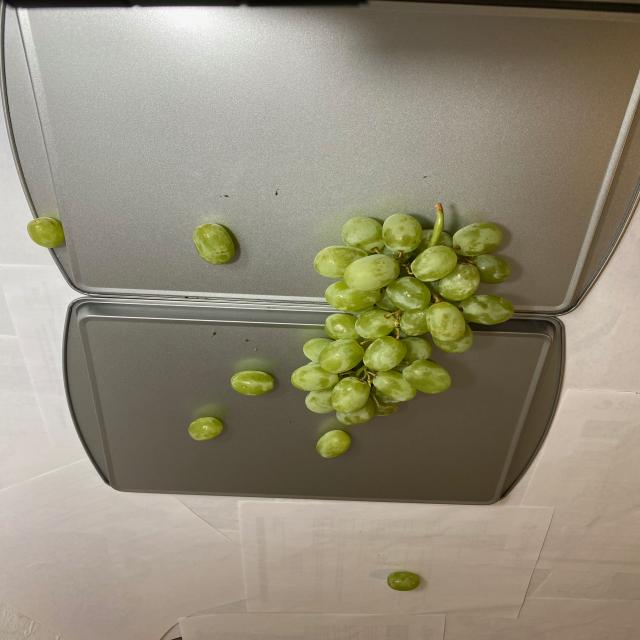Grapes: (186, 201, 517, 461), (24, 212, 68, 252), (387, 567, 422, 594)
